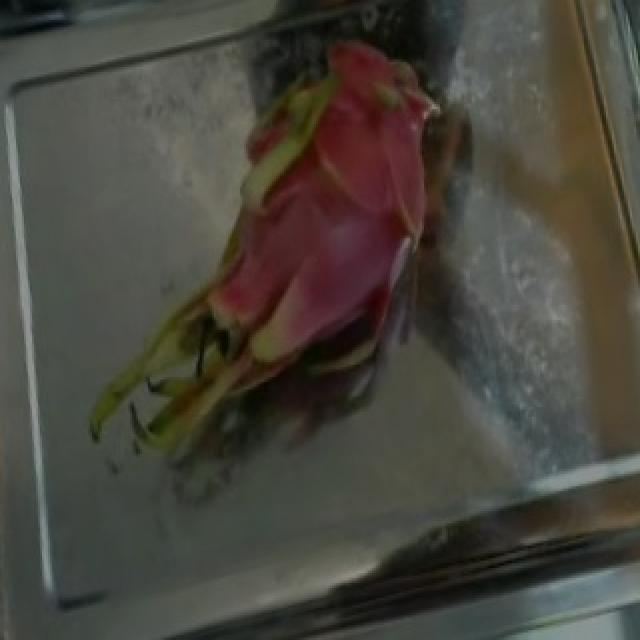fruit: (70, 7, 474, 464)
